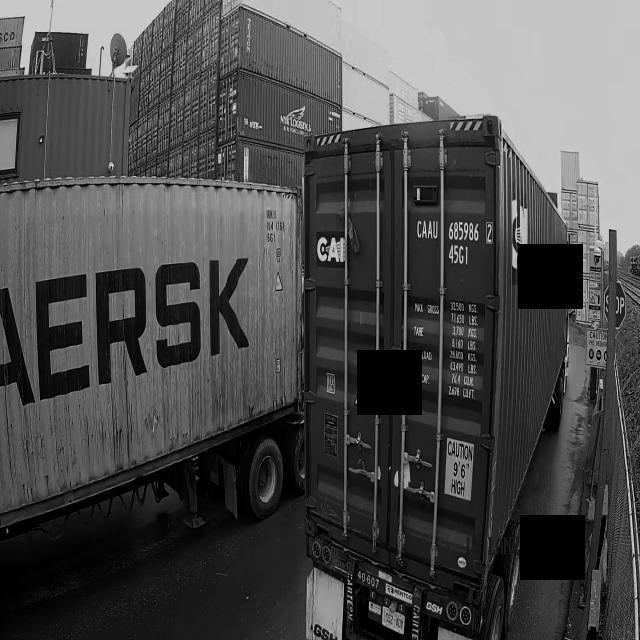container_company_logo: (316, 227, 351, 267)
container_number: (415, 216, 494, 271)
license_plate: (377, 604, 409, 632)
other_container_info: (413, 295, 485, 409)
truck_with_container: (303, 116, 568, 639), (0, 178, 303, 534)
